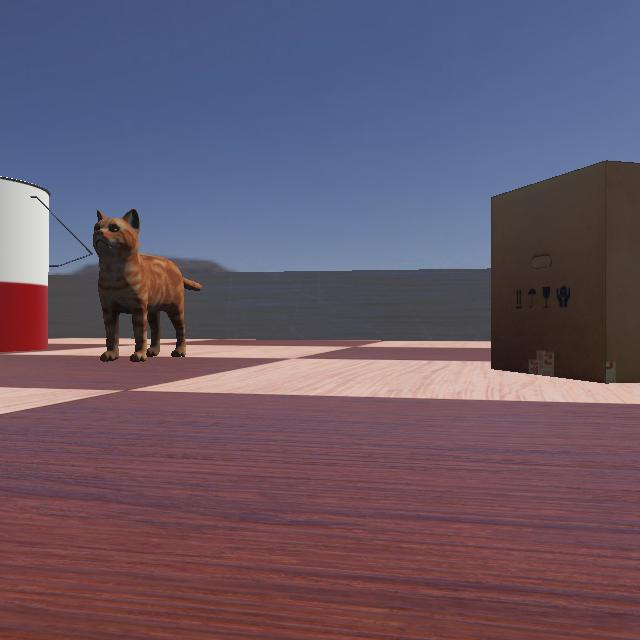cardboard-box: (478, 160, 640, 384)
cat: (77, 202, 203, 364), (77, 202, 203, 364), (77, 202, 203, 364)
paint-bucket: (0, 167, 108, 356), (0, 167, 108, 356)
